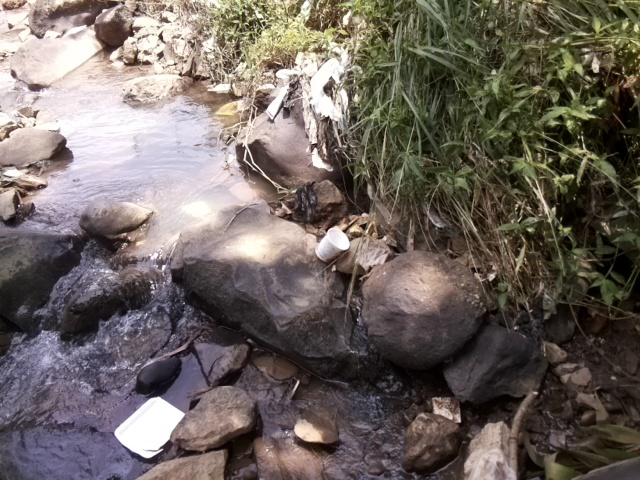Sampah_Styrofoam: (108, 393, 189, 465), (311, 223, 356, 266)
